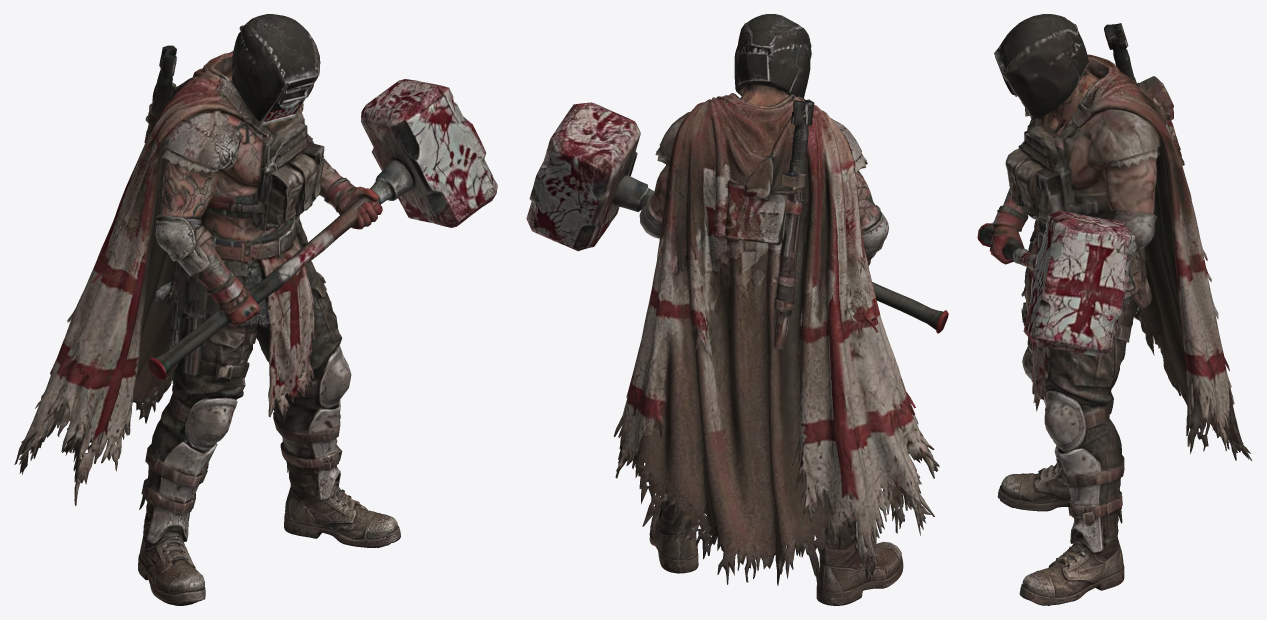
File: tagilla-knight.glb
The picture shows the model from 3 angles, left to right: view 1: azimuth 30°, elevation 25°; view 2: azimuth 150°, elevation 25°; view 3: azimuth 270°, elevation 25°; orthographic projection. The views are drawn at different scales.
Parts seen in each view (by area): view 1: tripo_node_f5fa77de-af6e-4692-951c-764f7ef32c26; view 2: tripo_node_f5fa77de-af6e-4692-951c-764f7ef32c26; view 3: tripo_node_f5fa77de-af6e-4692-951c-764f7ef32c26.
Part boxes in pixels (x1=…): tripo_node_f5fa77de-af6e-4692-951c-764f7ef32c26: x1=14, y1=14, x2=497, y2=605; tripo_node_f5fa77de-af6e-4692-951c-764f7ef32c26: x1=526, y1=14, x2=948, y2=605; tripo_node_f5fa77de-af6e-4692-951c-764f7ef32c26: x1=977, y1=14, x2=1252, y2=605.
Size of the model in its own units: 0.8116 by 0.9796 by 0.457.
Materials: 1 (1 with a texture image).
